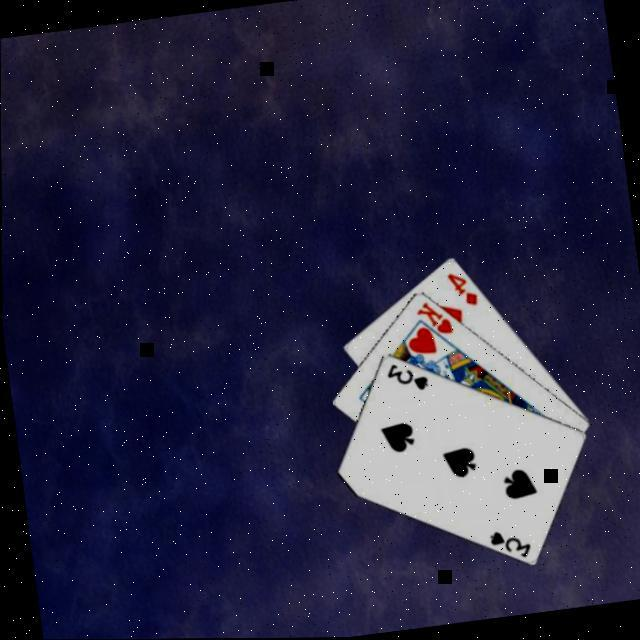3S: (481, 525, 531, 566), (379, 358, 429, 398)
4D: (440, 268, 478, 312)
KH: (410, 296, 453, 340)
